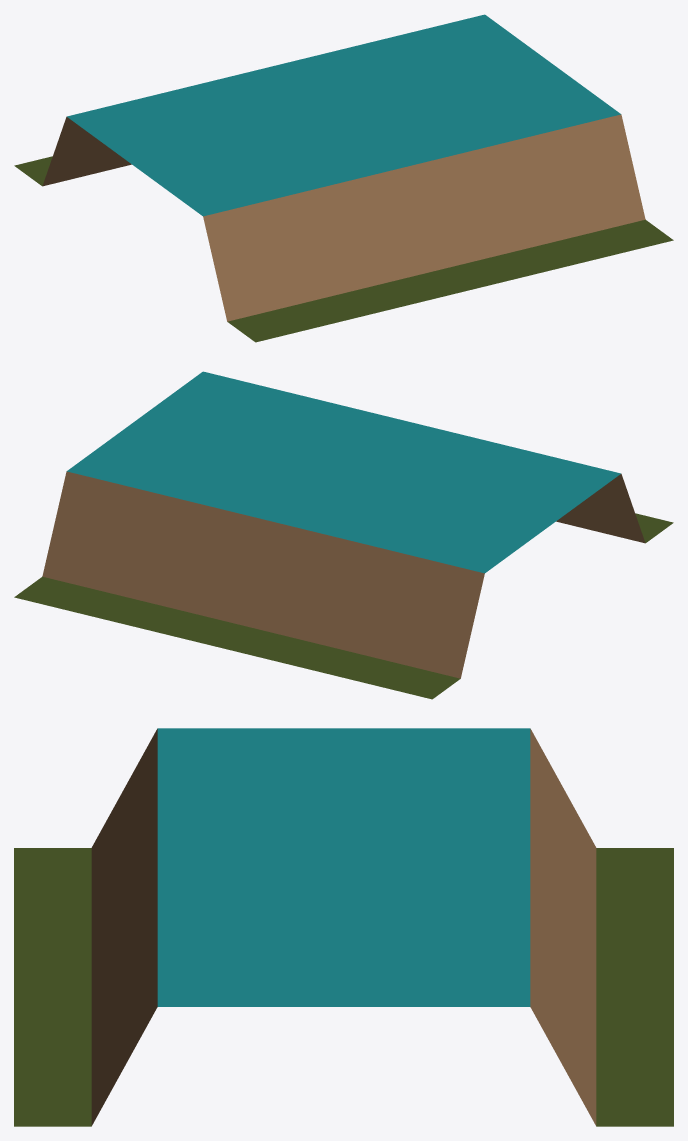
File: TB_Env_Mountain_A.FBX
The picture shows the model from 3 angles, top to bottom: view 1: azimuth 30°, elevation 25°; view 2: azimuth 150°, elevation 25°; view 3: azimuth 270°, elevation 25°; orthographic projection. The views are drawn at different scales.
Parts seen in each view (by area): view 1: TB_Env_Mountain_A; view 2: TB_Env_Mountain_A; view 3: TB_Env_Mountain_A.
Boxes of the visible parts, left/top/right/bottom form: TB_Env_Mountain_A: left=14, top=14, right=673, bottom=342; TB_Env_Mountain_A: left=14, top=371, right=673, bottom=699; TB_Env_Mountain_A: left=14, top=728, right=673, bottom=1126.
Size of the model in its own units: 10 by 2 by 10.
Materials: 1 (1 with a texture image).
